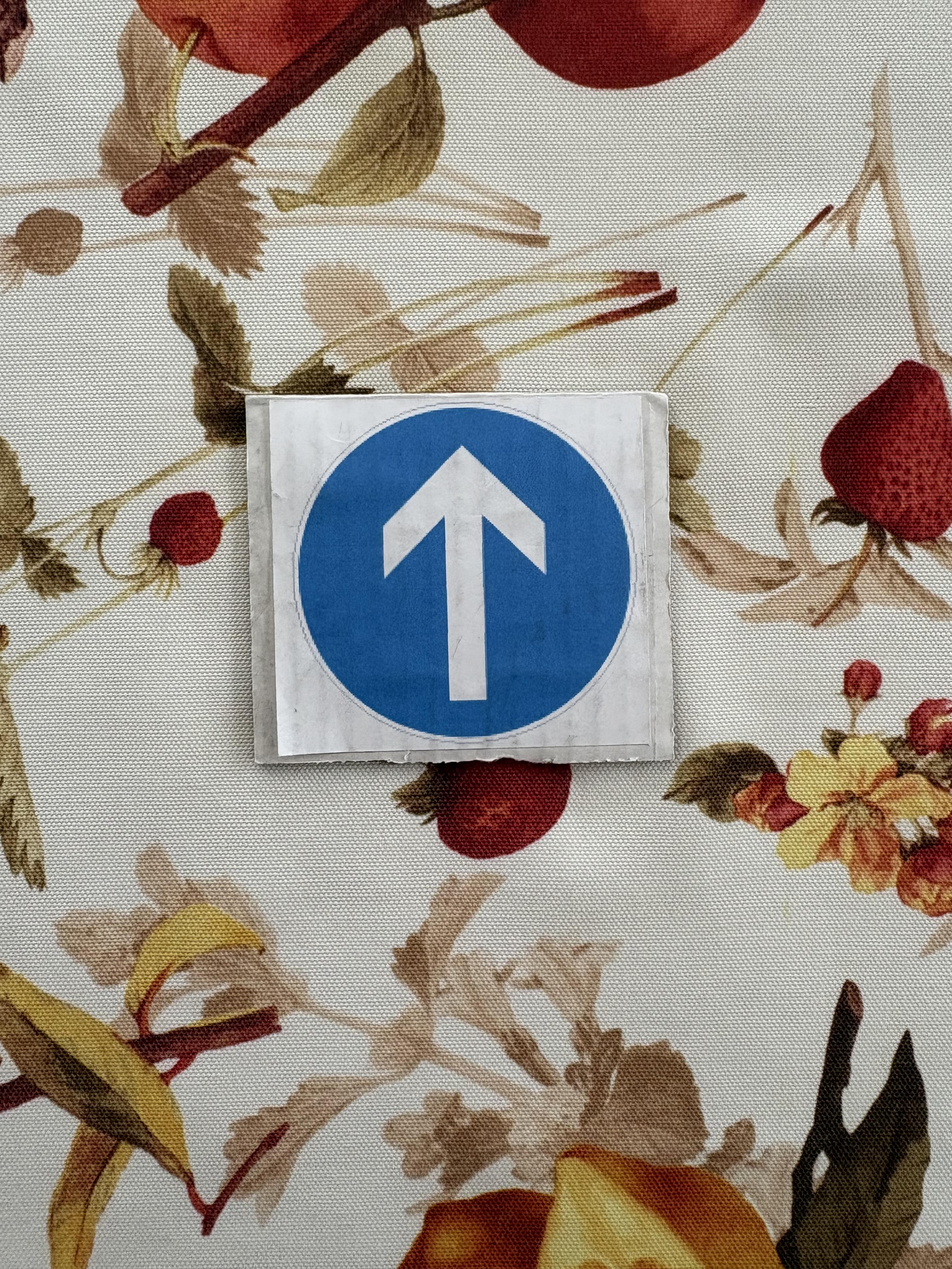Proceed Forward: (246, 406, 665, 756)
